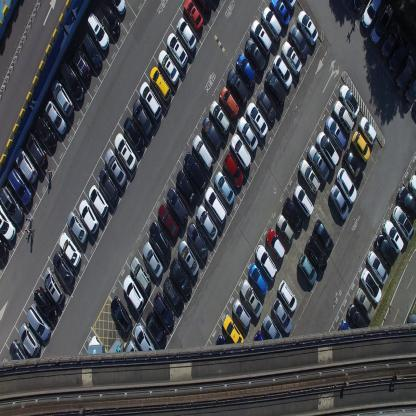car: (59, 61, 85, 102), (369, 2, 393, 44), (7, 166, 32, 206), (0, 185, 25, 225), (113, 131, 137, 172), (86, 12, 110, 53), (182, 150, 205, 192), (168, 257, 192, 297), (315, 129, 339, 169), (50, 78, 74, 118), (306, 143, 330, 182), (26, 304, 51, 341), (139, 80, 162, 120), (104, 146, 127, 186), (33, 285, 57, 323), (204, 185, 226, 226), (240, 277, 262, 318), (69, 41, 91, 82), (230, 134, 252, 174), (192, 133, 214, 173), (166, 187, 188, 227), (148, 220, 171, 258), (157, 47, 180, 85), (221, 312, 244, 350), (14, 147, 37, 185), (132, 97, 153, 138), (306, 233, 327, 274), (254, 243, 276, 282), (195, 203, 217, 242), (176, 239, 198, 278), (122, 271, 144, 310), (166, 29, 188, 68), (123, 115, 145, 154), (43, 266, 65, 305), (392, 204, 415, 241), (52, 250, 75, 287), (34, 113, 57, 150), (141, 239, 162, 279), (208, 100, 230, 138), (176, 168, 198, 206), (186, 222, 208, 260), (176, 14, 198, 52), (149, 64, 171, 102), (226, 67, 248, 105), (264, 69, 286, 107), (25, 132, 47, 170), (360, 267, 382, 304), (157, 203, 179, 240), (162, 275, 184, 312), (129, 255, 151, 292), (152, 290, 174, 327), (145, 309, 167, 346), (110, 294, 132, 331), (296, 10, 318, 47), (237, 116, 258, 154), (247, 100, 268, 138), (245, 36, 266, 74), (251, 18, 272, 56), (380, 20, 401, 58), (292, 182, 314, 218), (324, 115, 346, 151), (280, 40, 302, 76), (59, 232, 81, 268), (9, 339, 31, 375), (45, 100, 67, 136), (368, 249, 389, 286), (342, 148, 363, 185), (236, 52, 257, 89), (261, 6, 282, 43), (78, 198, 99, 235), (376, 232, 398, 267), (332, 99, 354, 134), (18, 323, 40, 358), (201, 115, 221, 153), (272, 296, 292, 334), (336, 166, 356, 204), (222, 153, 243, 189), (339, 83, 360, 119), (66, 210, 88, 244), (272, 53, 292, 90), (394, 52, 414, 89), (98, 166, 118, 203), (82, 33, 102, 70), (313, 218, 334, 253), (299, 158, 320, 193), (329, 182, 348, 220), (355, 286, 375, 322), (347, 302, 367, 338), (219, 86, 239, 122), (283, 197, 303, 233), (256, 87, 276, 123), (288, 23, 308, 59), (276, 278, 297, 312), (262, 312, 283, 346), (214, 332, 235, 366), (338, 318, 360, 350), (214, 171, 234, 206), (88, 183, 108, 218), (360, 0, 383, 30), (384, 218, 404, 252), (248, 262, 268, 296), (266, 228, 286, 262), (387, 39, 407, 73), (134, 320, 156, 350), (397, 184, 415, 220), (183, 0, 204, 30), (125, 339, 143, 374), (0, 203, 16, 242), (232, 299, 252, 330), (298, 253, 316, 287), (254, 329, 272, 363), (101, 4, 120, 36), (352, 129, 370, 162), (269, 0, 291, 27), (358, 115, 377, 146), (275, 215, 294, 245), (404, 71, 416, 103), (110, 0, 127, 18), (194, 0, 212, 15), (408, 174, 416, 202), (351, 0, 367, 14), (0, 239, 9, 260), (284, 0, 297, 11), (411, 98, 416, 113)
